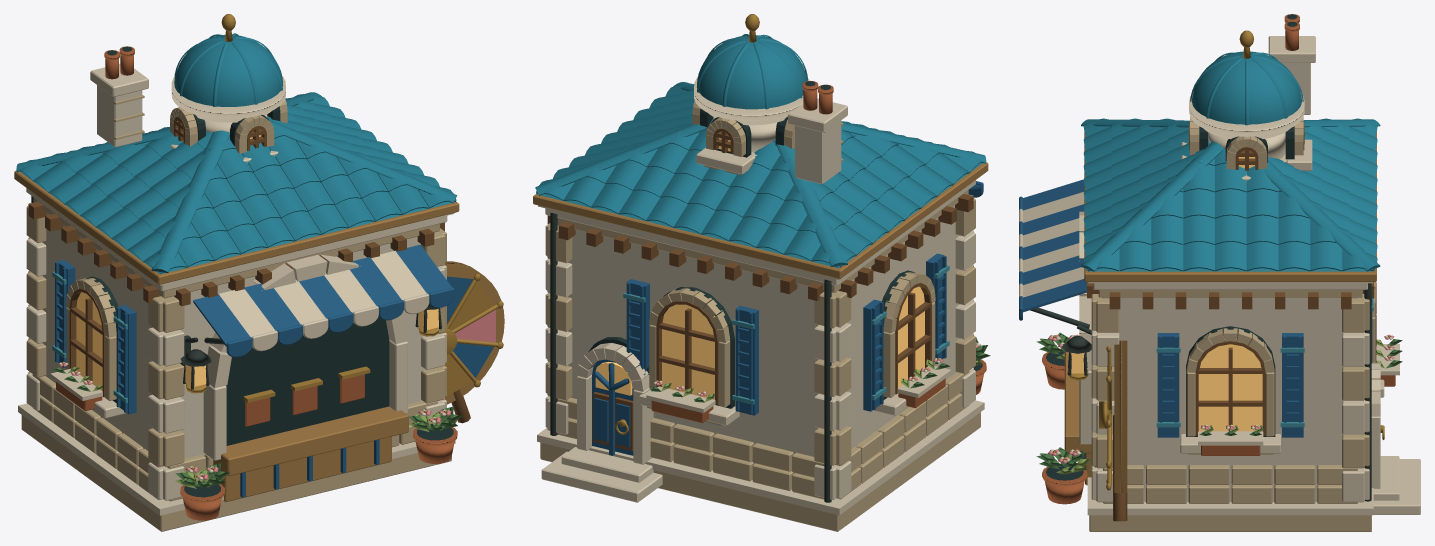
3 views of the same model, side by side, from view 1: azimuth 30°, elevation 25°; view 2: azimuth 150°, elevation 25°; view 3: azimuth 270°, elevation 25° (orthographic). The views are drawn at different scales.
Parts seen in each view (by area): view 1: harbor_chance_wheel_geometry, harbor_chance_wheel_geometry ceramic, harbor_chance_wheel_rotor_geometry; view 2: harbor_chance_wheel_geometry, harbor_chance_wheel_geometry ceramic; view 3: harbor_chance_wheel_geometry, harbor_chance_wheel_geometry ceramic, harbor_chance_wheel_rotor_geometry.
Part boxes in pixels (x1=…): harbor_chance_wheel_geometry: x1=14, y1=14, x2=470, y2=531; harbor_chance_wheel_geometry ceramic: x1=16, y1=33, x2=456, y2=403; harbor_chance_wheel_rotor_geometry: x1=439, y1=261, x2=504, y2=404; harbor_chance_wheel_geometry: x1=533, y1=14, x2=990, y2=531; harbor_chance_wheel_geometry ceramic: x1=535, y1=34, x2=986, y2=404; harbor_chance_wheel_geometry: x1=1019, y1=14, x2=1420, y2=531; harbor_chance_wheel_geometry ceramic: x1=1081, y1=51, x2=1380, y2=427; harbor_chance_wheel_rotor_geometry: x1=1099, y1=340, x2=1127, y2=492.
Bounding box in the file's own units: 1.04 × 1.1 × 0.9351.
